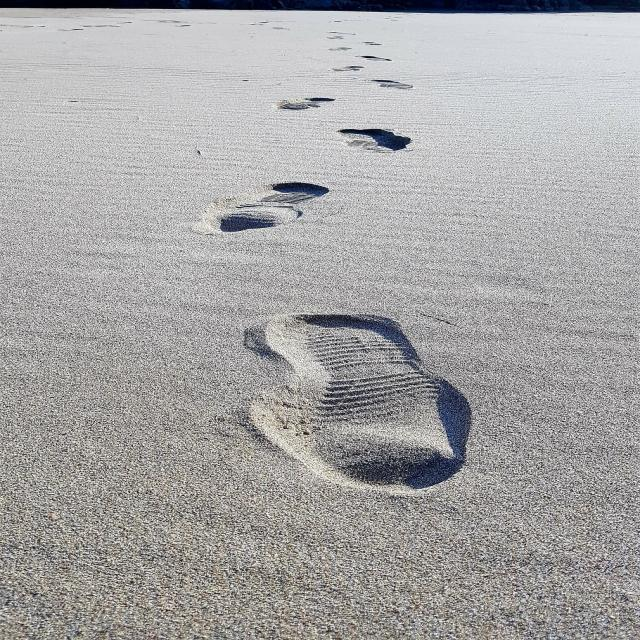human_foot_print: (206, 33, 463, 534), (238, 309, 473, 498)
